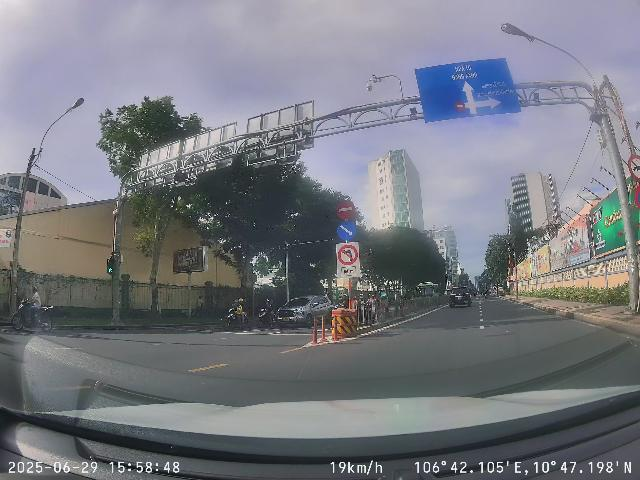102-cam-di-nguoc-chieu: (337, 200, 355, 219)
123a-cam-re-trai: (338, 244, 358, 266)
302a-huong-phai-di-vong-chuong-ngai-vat-1: (337, 220, 357, 240)
